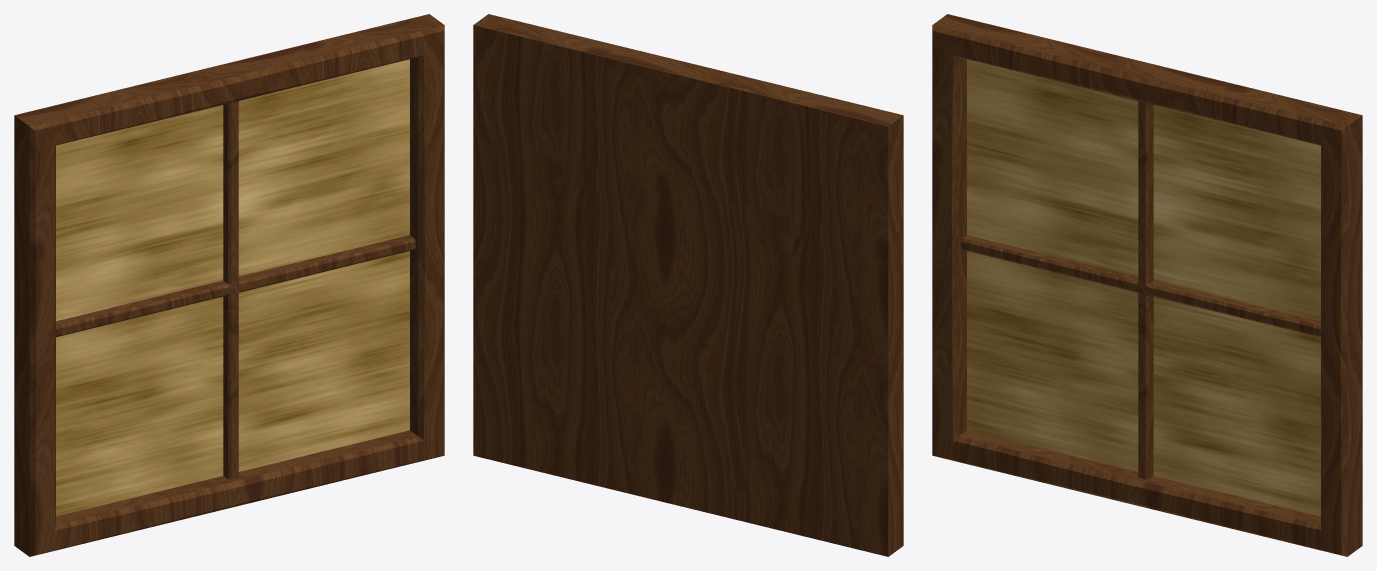
The model's file is Misc_Window.fbx.
3 views of the same model, side by side, from view 1: azimuth 30°, elevation 25°; view 2: azimuth 150°, elevation 25°; view 3: azimuth 330°, elevation 25° (orthographic).
Parts seen in each view (by area): view 1: polySurface126; view 2: polySurface126; view 3: polySurface126.
Part boxes in pixels (box(x1,y1,x2,y2)): polySurface126: box(14, 14, 444, 556); polySurface126: box(473, 14, 903, 556); polySurface126: box(932, 14, 1362, 556).
Bounding box in the file's own units: 2.29 × 2.27 × 0.1693.
